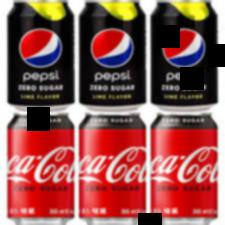cocacola_zero: (77, 112, 149, 224), (7, 112, 77, 224), (150, 114, 219, 224)
pepsi_zero: (150, 0, 220, 113), (79, 0, 148, 112), (6, 1, 74, 112)
